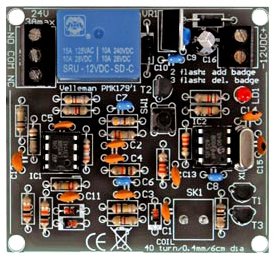Capacitor: (189, 27, 220, 57)
Diode: (142, 35, 156, 57), (198, 15, 223, 25), (61, 207, 79, 217), (63, 219, 78, 228), (152, 208, 160, 222)
LED: (235, 86, 252, 103)
Resistor: (15, 106, 27, 134), (27, 126, 39, 154), (215, 203, 227, 230), (61, 93, 90, 104), (39, 199, 50, 228), (22, 195, 33, 223), (52, 179, 80, 190), (193, 105, 220, 116), (81, 137, 91, 166), (180, 132, 191, 157), (111, 202, 138, 212), (111, 166, 138, 176), (158, 152, 168, 179), (61, 106, 90, 115), (112, 215, 138, 225), (111, 116, 136, 126), (193, 93, 218, 103), (109, 130, 136, 139)
